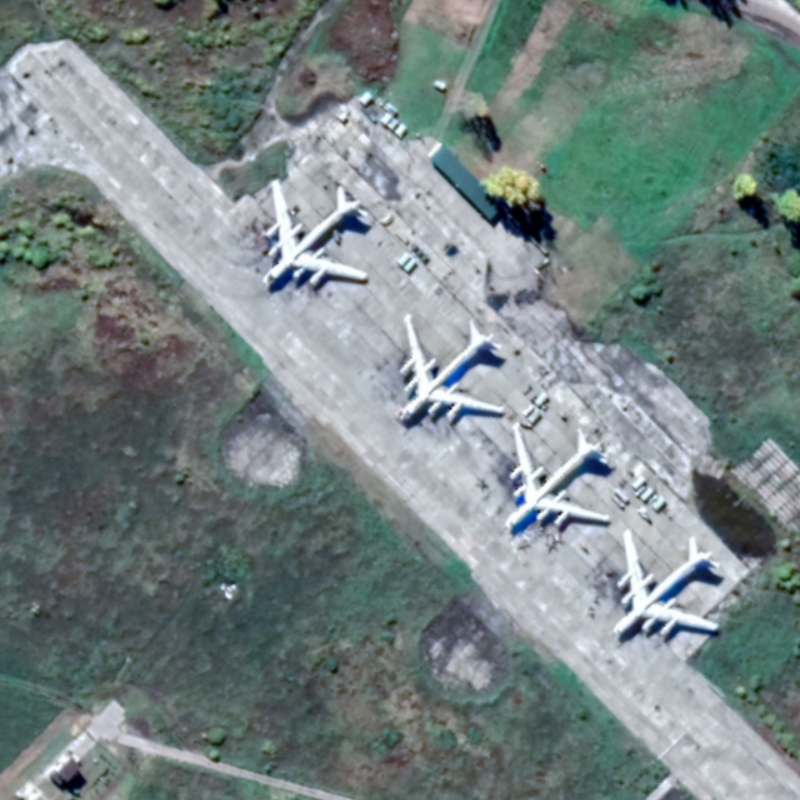A17: (611, 526, 724, 641), (396, 310, 508, 426), (503, 419, 613, 534), (261, 176, 371, 289)
